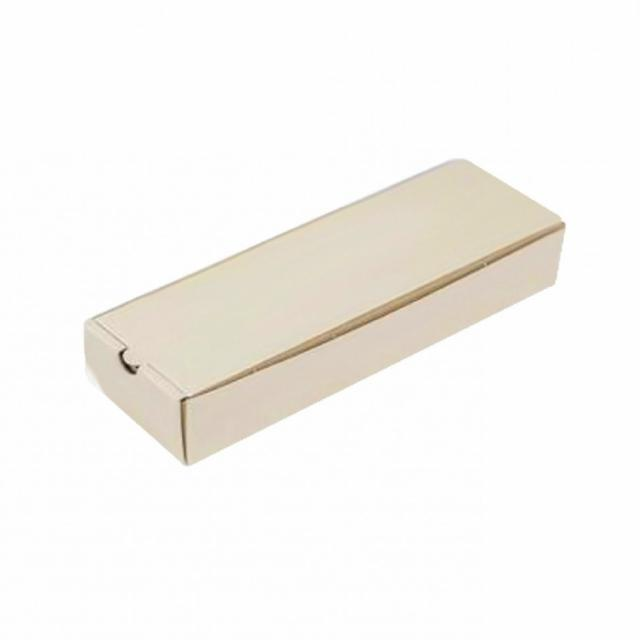box: (64, 138, 573, 480)
